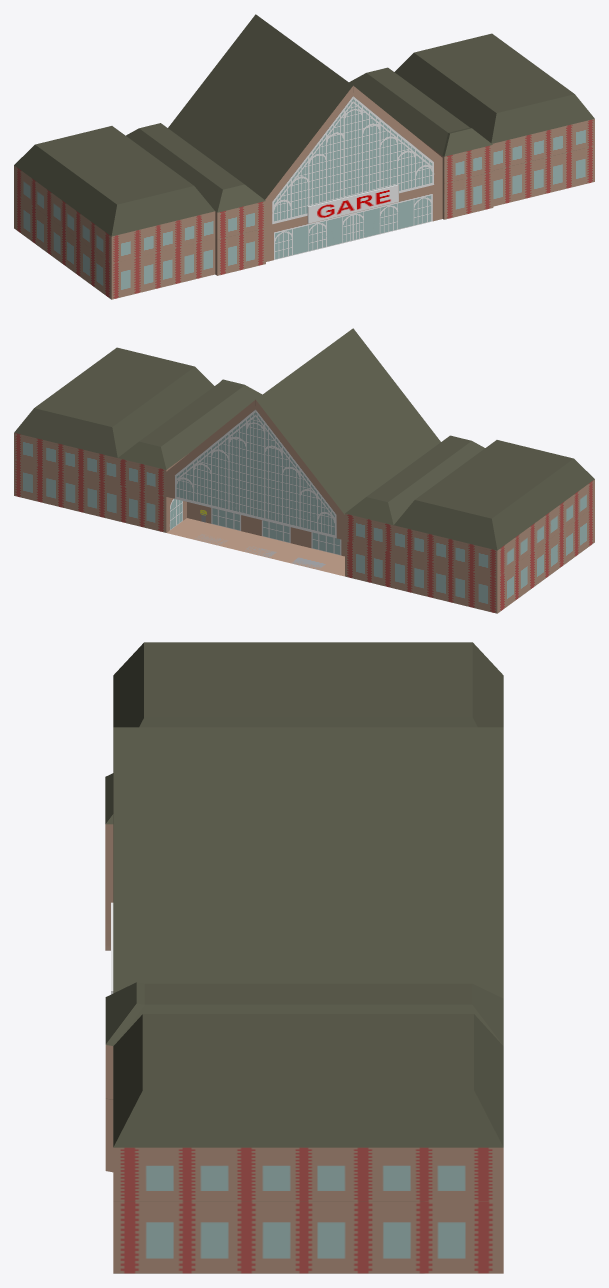
File: gare.glb
3 views of the same model, one above another, from view 1: azimuth 30°, elevation 25°; view 2: azimuth 150°, elevation 25°; view 3: azimuth 270°, elevation 25° (orthographic). The views are drawn at different scales.
Parts seen in each view (by area): view 1: Cube; view 2: Cube; view 3: Cube.
Part boxes in pixels (left/top/right/bottom): Cube: left=14, top=14, right=594, bottom=299; Cube: left=14, top=328, right=594, bottom=613; Cube: left=105, top=642, right=503, bottom=1273.
Bounding box in the file's own units: 36.54 × 11.21 × 13.03.
1 material, 1 textured.
